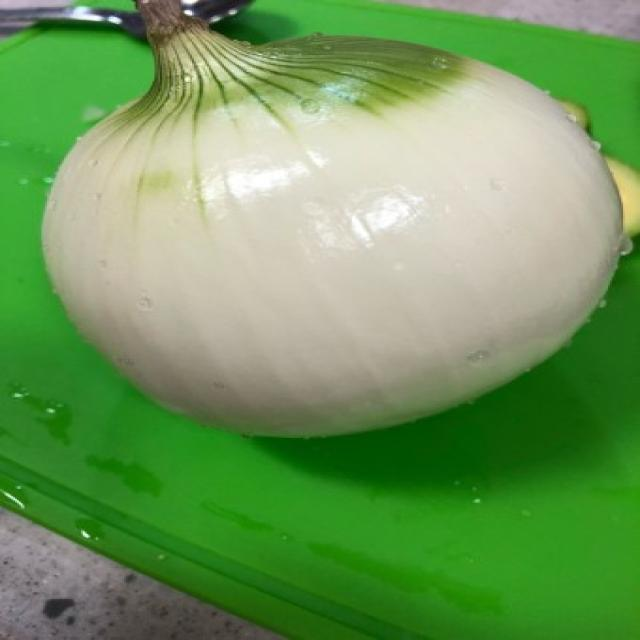onion: (10, 3, 639, 452)
